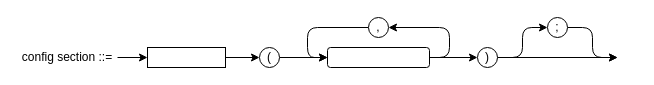
Some shapes in this 654 by 85 pixel diagram are drawn without their labels. The centre of each missing label's shape, as x and y in pixels:
"config" belongs at (x=186, y=57).
"named value" belongs at (x=378, y=57).
